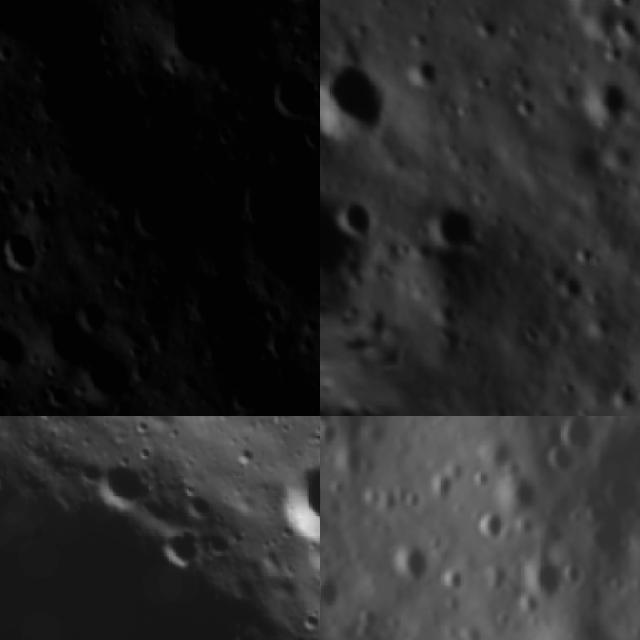crater: (212, 146, 320, 306), (320, 41, 412, 169), (0, 0, 113, 62), (416, 192, 496, 272), (118, 175, 197, 255), (63, 347, 143, 416), (572, 67, 640, 138), (90, 450, 167, 511), (324, 186, 392, 254), (276, 449, 320, 552), (380, 532, 440, 598), (265, 60, 320, 129), (151, 516, 212, 576), (0, 217, 48, 286), (0, 315, 46, 378), (400, 46, 453, 99), (67, 290, 119, 344), (467, 500, 514, 553), (534, 437, 588, 482), (320, 562, 358, 620), (550, 268, 595, 312), (506, 88, 550, 131), (552, 416, 596, 453), (564, 235, 604, 275), (470, 12, 507, 50), (556, 416, 613, 432), (273, 0, 320, 14)
